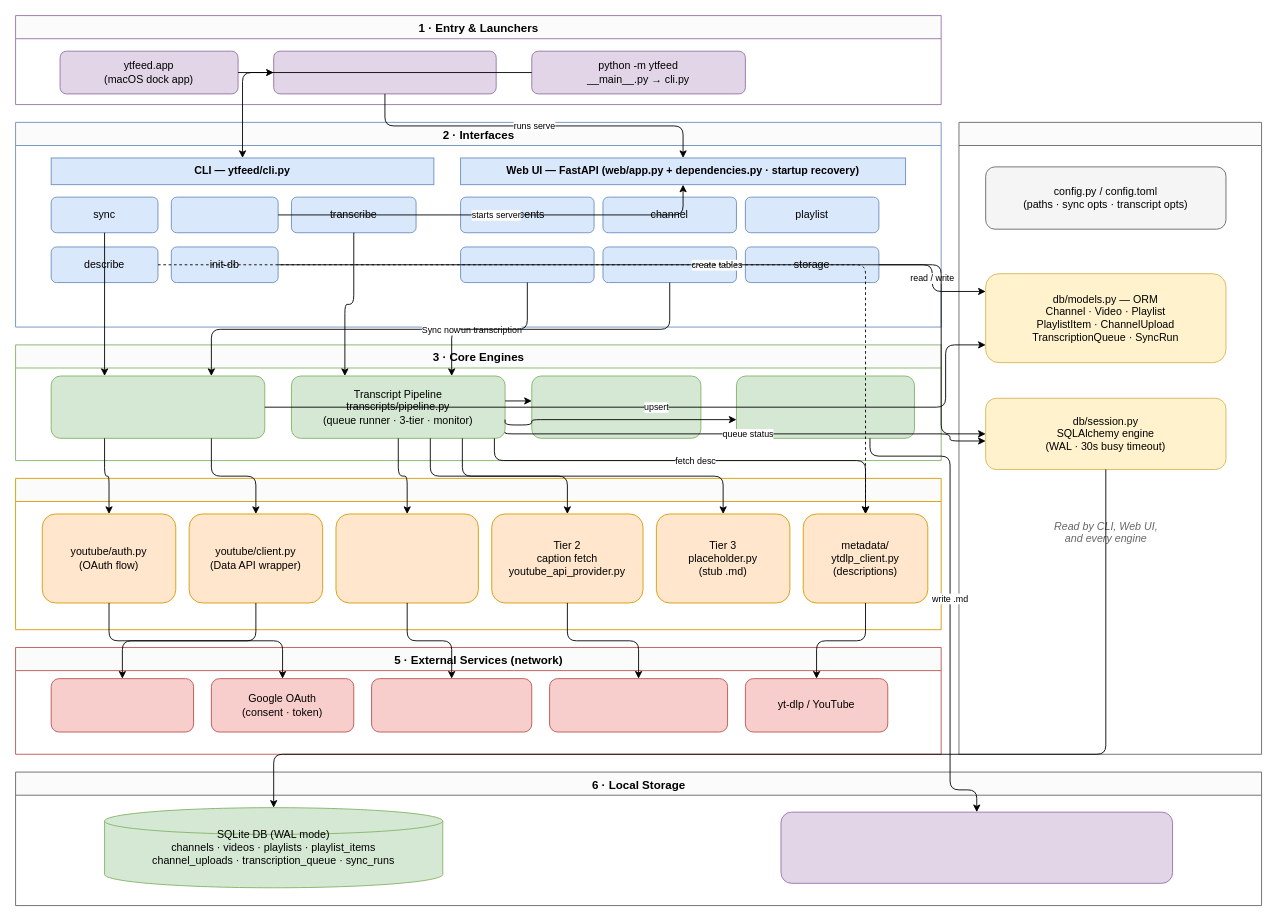
Some shapes in this 1277 by 921 pixel diagram are drawn without their labels. Each missing label, with the box of its shape:
4 · Integration Clients & Providers: (15, 477, 941, 630)
categorize.py (playlist → category): (531, 375, 701, 438)
Data Access & Config (cross-cutting): (958, 121, 1262, 754)
markdown_writer.py (vault file writer): (736, 375, 914, 438)
NotebookLM (web · notebooklm-py): (371, 678, 532, 732)
Obsidian RAG Vault raw/*.md (frontmatter + ## Description + ## Transcript): (780, 811, 1173, 883)
queue: (460, 246, 594, 283)
scripts/ytfeed-launch (start server · open browser): (273, 50, 496, 94)
serve: (170, 196, 278, 233)
settings: (602, 246, 736, 283)
Tier 1 NotebookLM notebooklm_provider.py: (335, 513, 478, 603)
YouTube Data API v3: (50, 678, 194, 732)
YouTube Sync Engine youtube/sync.py (subs · playlists · uploads · early-stop): (50, 375, 265, 438)
youtube-transcript-api (caption track): (549, 678, 728, 732)
